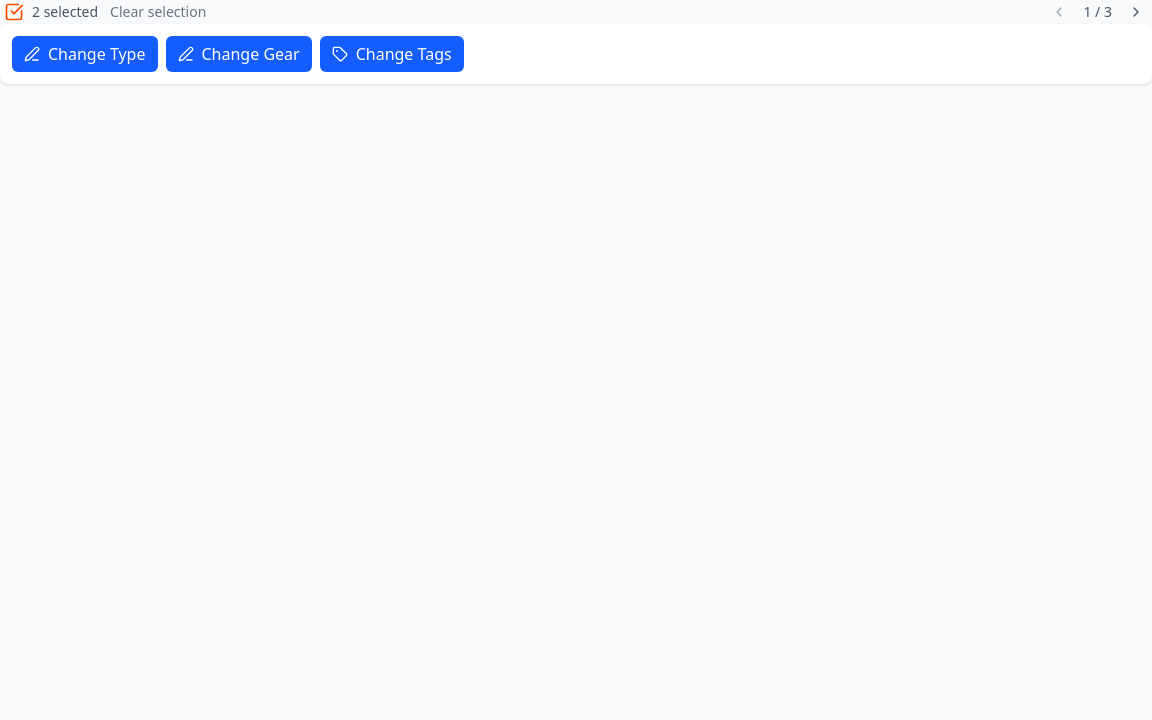
Test: BulkActions › Change Tags Modal › opens tags modal when Change Tags is clicked
Click the button "Change Tags": point(392, 54) [320,36,464,72]
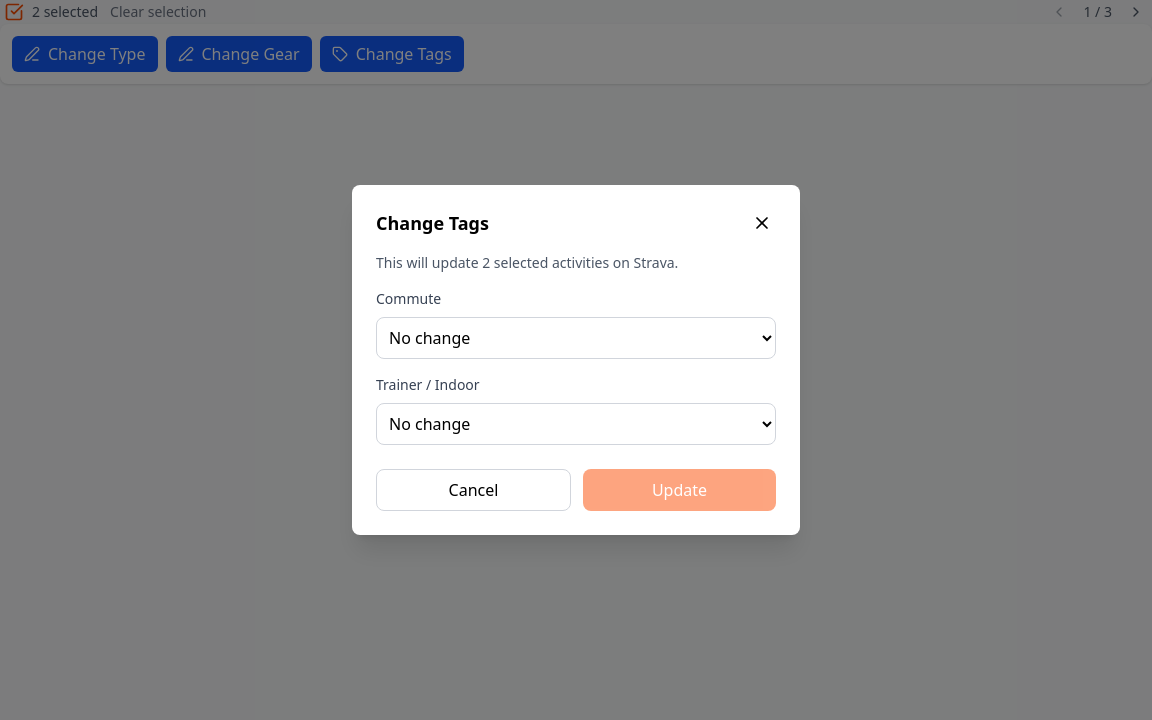
expect the text "Commute" is shown: met, box [376,289,441,308]
expect the text "Trainer / Indoor" is shown: met, box [376,375,480,394]
